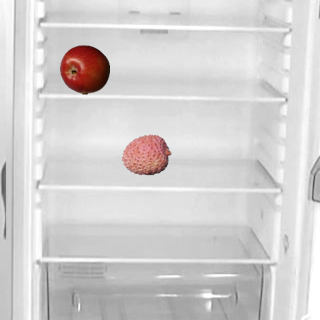Apple Braeburn: (59, 44, 109, 94)
Lychee: (121, 129, 171, 179)
